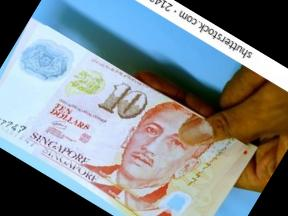10SingaporeDollar: (0, 21, 250, 216)
